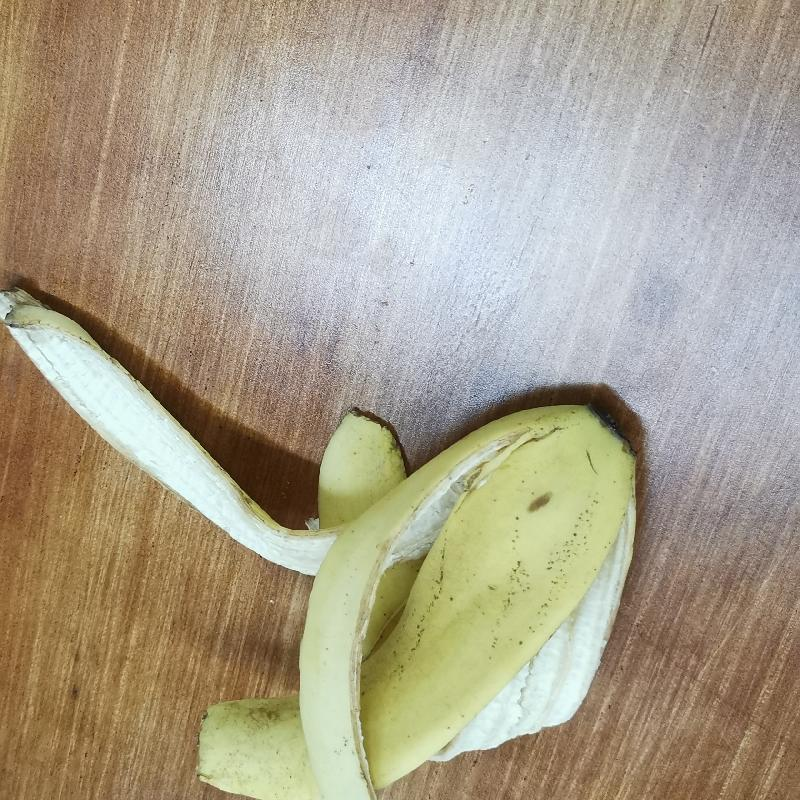bananas: (4, 265, 655, 800)
